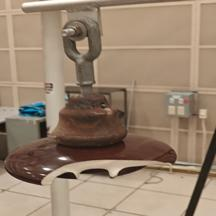insulator: (4, 87, 182, 192)
